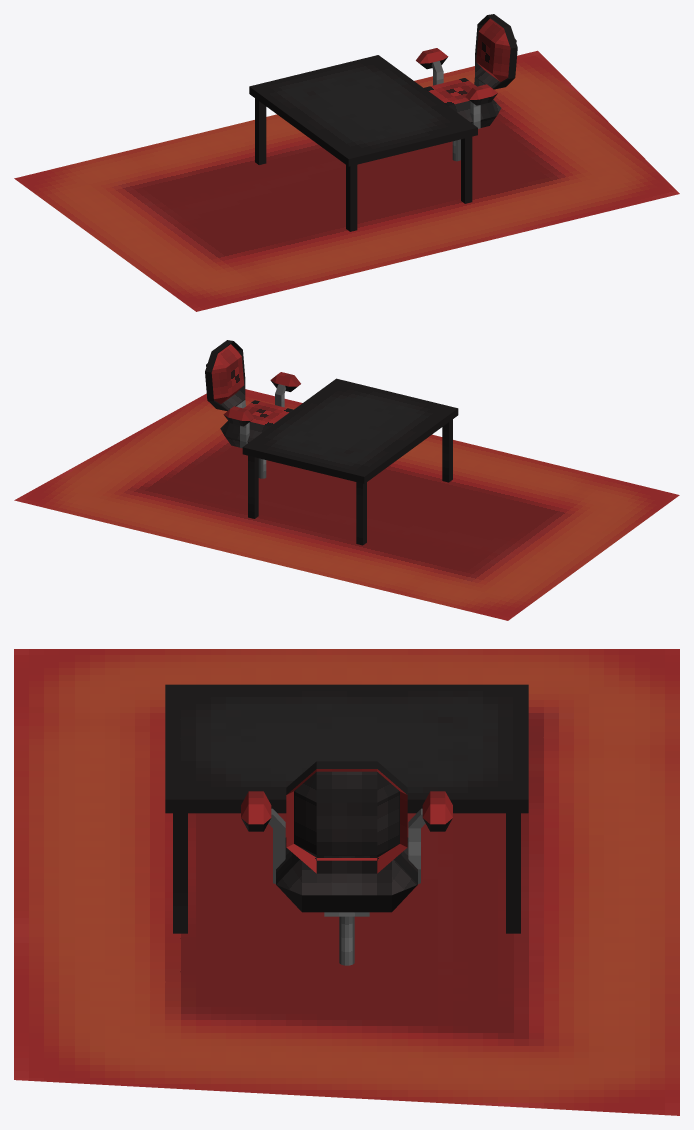
Rendered from OverDarkness.gltf.
3 views of the same model, one above another, from view 1: azimuth 30°, elevation 25°; view 2: azimuth 150°, elevation 25°; view 3: azimuth 270°, elevation 25° (orthographic). The views are drawn at different scales.
Parts seen in each view (by area): view 1: tapete, mesa, almodada de cima, pe da mesa (×3), base da ceira, mao; view 2: tapete, mesa, almodada de cima, pe da mesa (×3), base da ceira; view 3: tapete, mesa, almodada de cima, base da ceira, pe da mesa (×2), mao (×2), extensao.
Part boxes in pixels (x1=…): tapete: x1=14, y1=50, x2=679, y2=311; mesa: x1=249, y1=55, x2=477, y2=166; almodada de cima: x1=474, y1=14, x2=517, y2=89; pe da mesa (×3): x1=255, y1=98, x2=472, y2=231; base da ceira: x1=424, y1=61, x2=501, y2=128; mao: x1=465, y1=84, x2=497, y2=105; tapete: x1=14, y1=389, x2=679, y2=620; mesa: x1=242, y1=378, x2=458, y2=483; almodada de cima: x1=205, y1=340, x2=245, y2=411; pe da mesa (×3): x1=248, y1=419, x2=452, y2=545; base da ceira: x1=220, y1=384, x2=293, y2=448; tapete: x1=14, y1=649, x2=679, y2=1115; mesa: x1=165, y1=684, x2=528, y2=813; almodada de cima: x1=286, y1=761, x2=407, y2=873; base da ceira: x1=268, y1=808, x2=425, y2=916; pe da mesa (×2): x1=173, y1=813, x2=520, y2=933; mao (×2): x1=241, y1=791, x2=452, y2=831; extensao: x1=339, y1=916, x2=354, y2=965.
Size of the model in its own units: 4.56 by 1.07 by 2.75.
3 materials, 3 textured.
